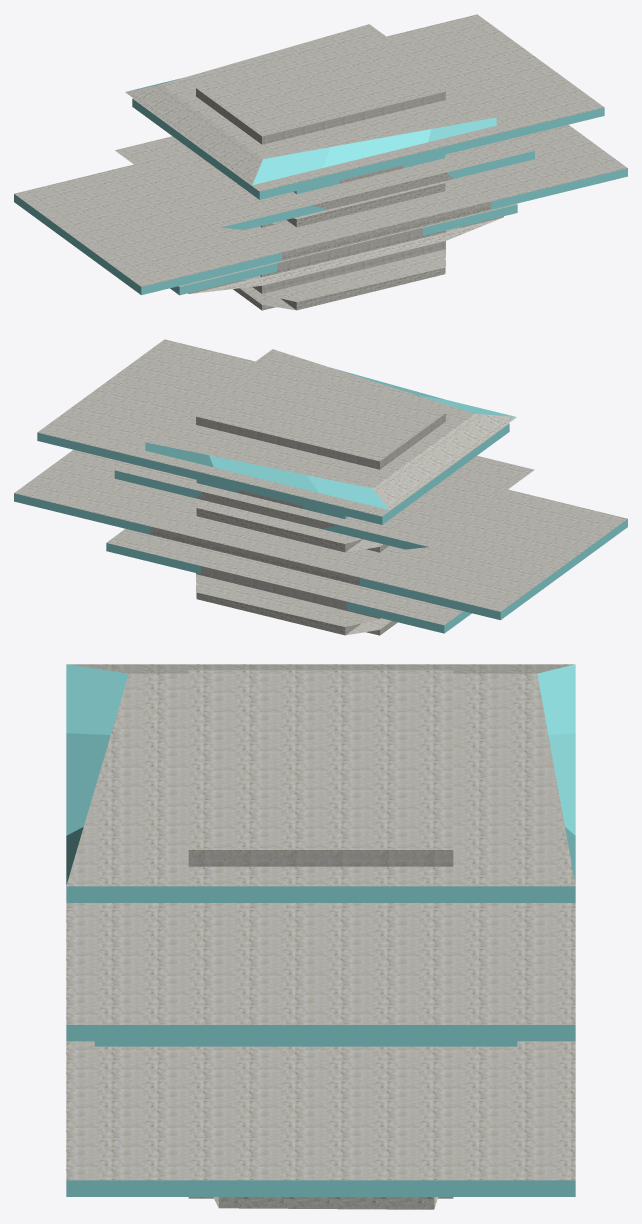
Rendered from Bill.gltf.
The picture shows the model from 3 angles, top to bottom: view 1: azimuth 30°, elevation 25°; view 2: azimuth 150°, elevation 25°; view 3: azimuth 270°, elevation 25°; orthographic projection. The views are drawn at different scales.
Visible parts, largest first — view 1: Cube.001; view 2: Cube.001; view 3: Cube.001.
Boxes of the visible parts, <box> form: Cube.001: <box>14,14,627,310</box>; Cube.001: <box>14,339,627,635</box>; Cube.001: <box>66,664,575,1209</box>.
Size of the model in its own units: 234 by 80 by 106.
Materials: 3 (2 with a texture image).
